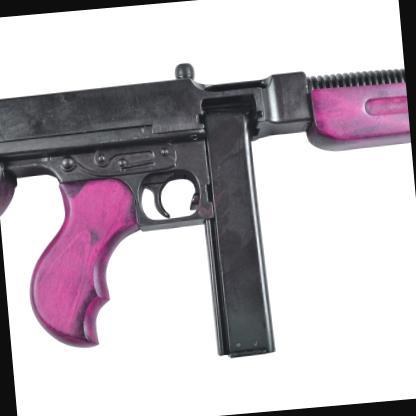rifle: (5, 32, 416, 378)
